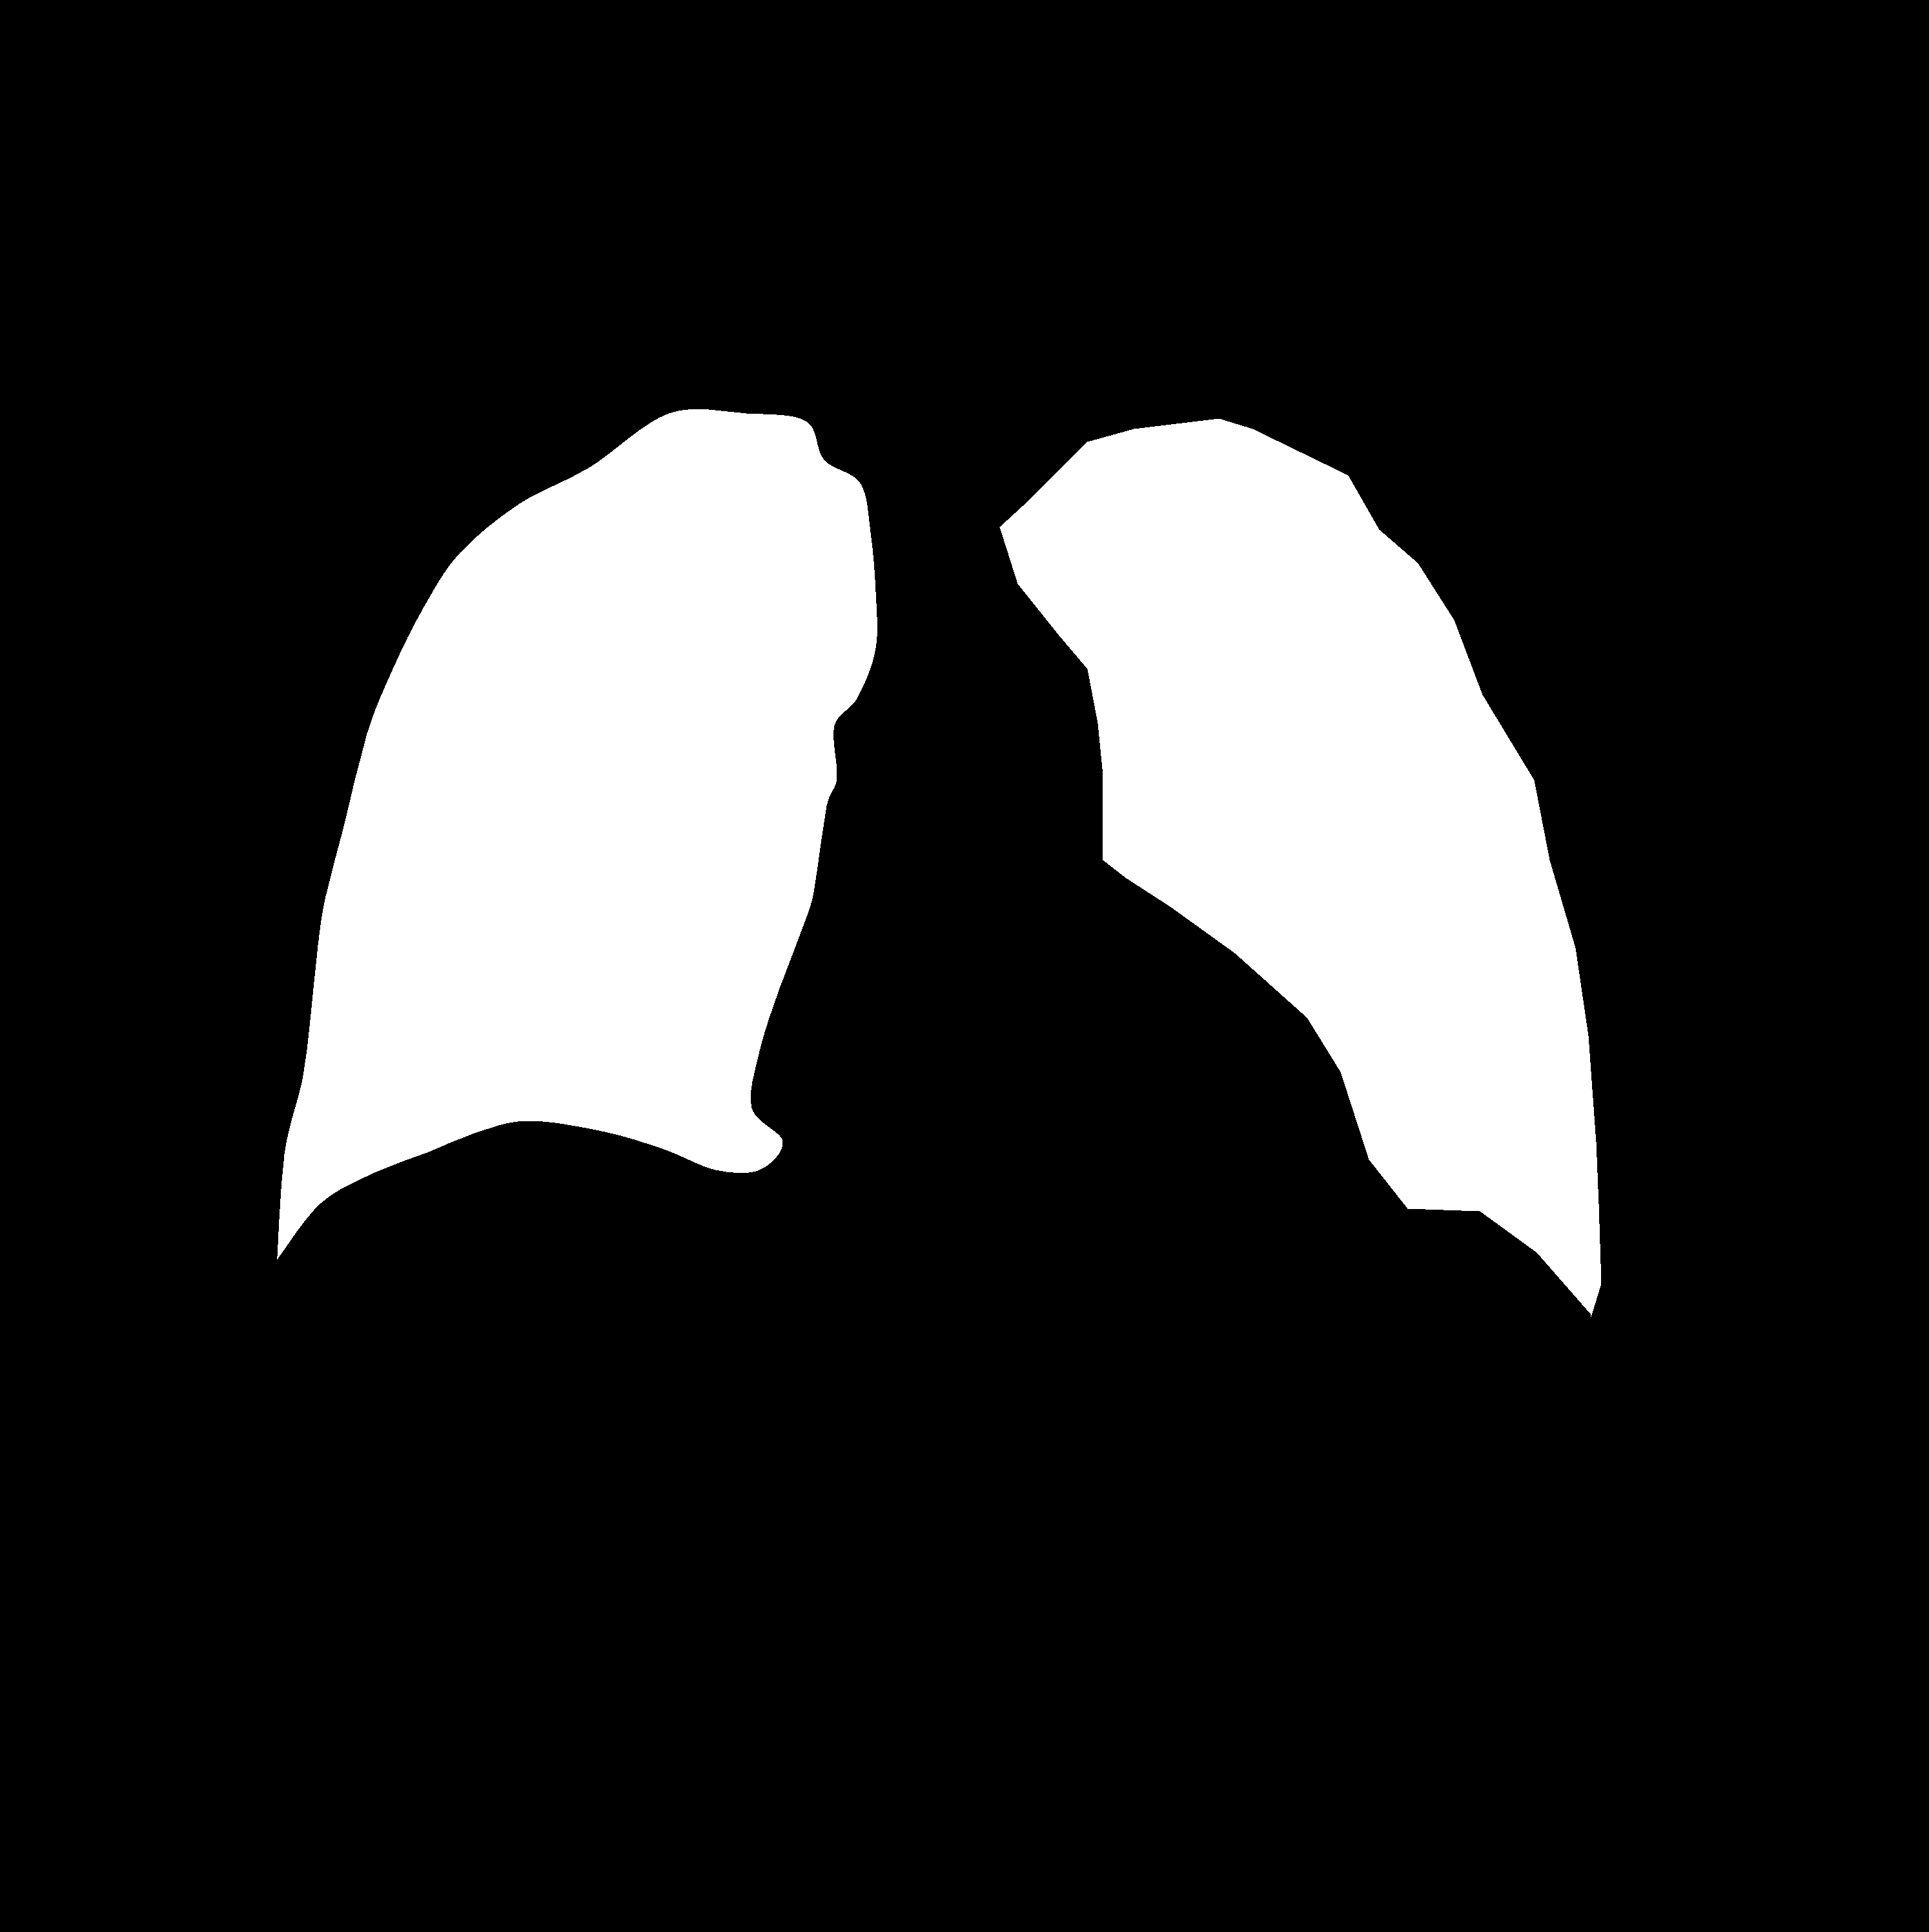heart: (745, 940, 1397, 1300)
left_lung: (277, 410, 876, 1259)
right_lung: (1000, 419, 1600, 1317)
